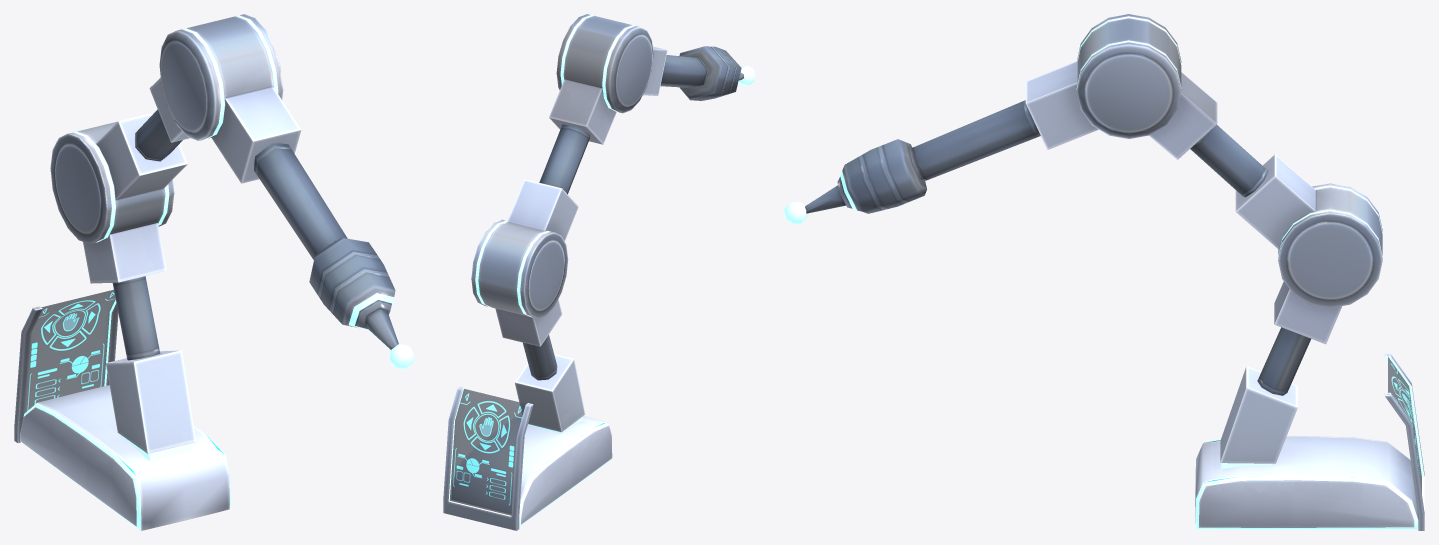
The model's file is obj_hand02.gltf.
3 renders of one model, left to right at view 1: azimuth 30°, elevation 25°; view 2: azimuth 150°, elevation 25°; view 3: azimuth 270°, elevation 25°, orthographic. The views are drawn at different scales.
Parts seen in each view (by area): view 1: obj_hand02; view 2: obj_hand02; view 3: obj_hand02.
Part boxes in pixels (x1,y1,x2,y2): obj_hand02: (14,14,414,530); obj_hand02: (443,14,755,530); obj_hand02: (784,14,1424,530).
Size of what is drawn, in the model's own units: 0.3753 by 1.99 by 2.39.
Materials: 3 (2 with a texture image).
